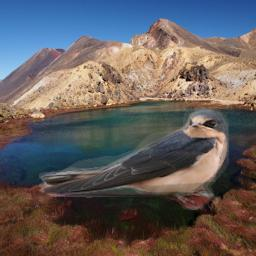Swallow: (39, 106, 229, 210)
